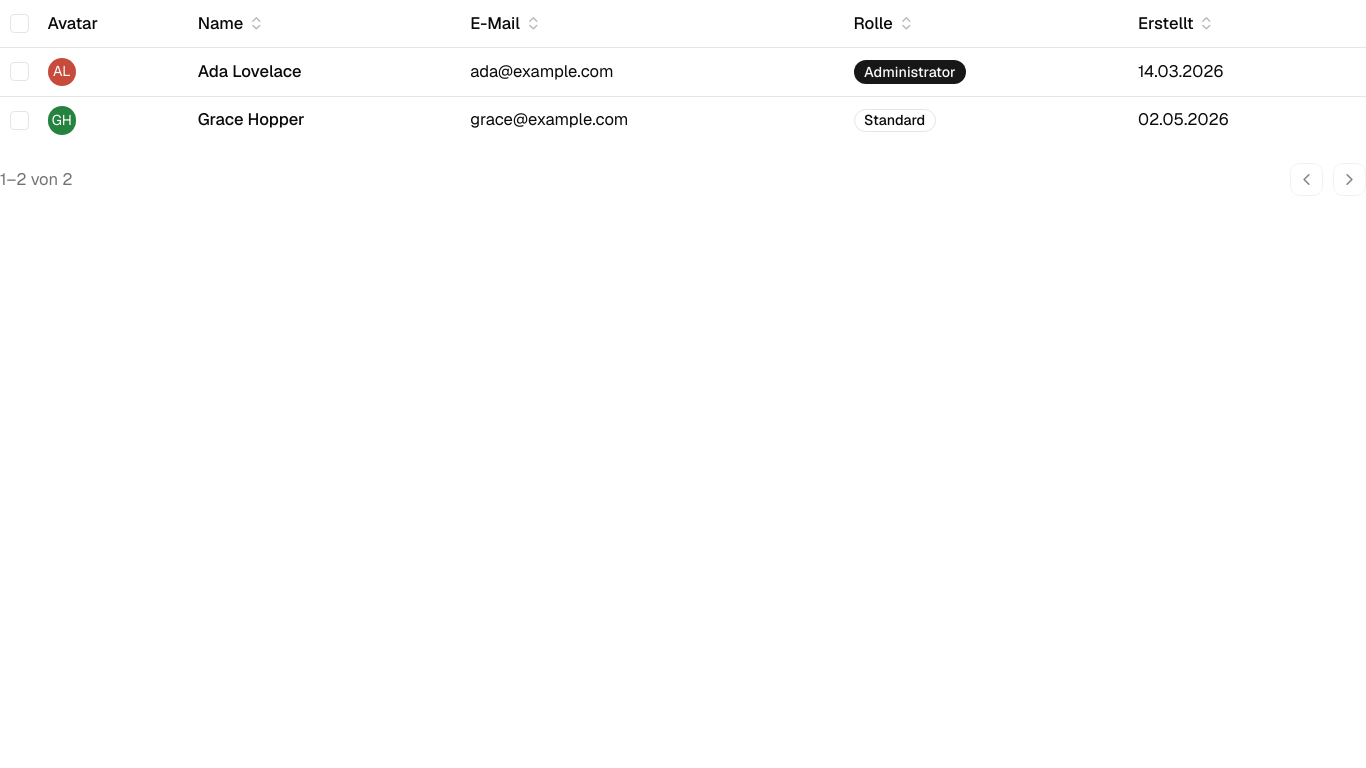
Test: <UsersTable> › declines to invent counts while they are still unknown
The width and height of the screenshot is (1366, 768).
Click the checkbox named "Diese Zeile auswählen" next to "AL".
click(19, 72)  # box [10,62,28,81]
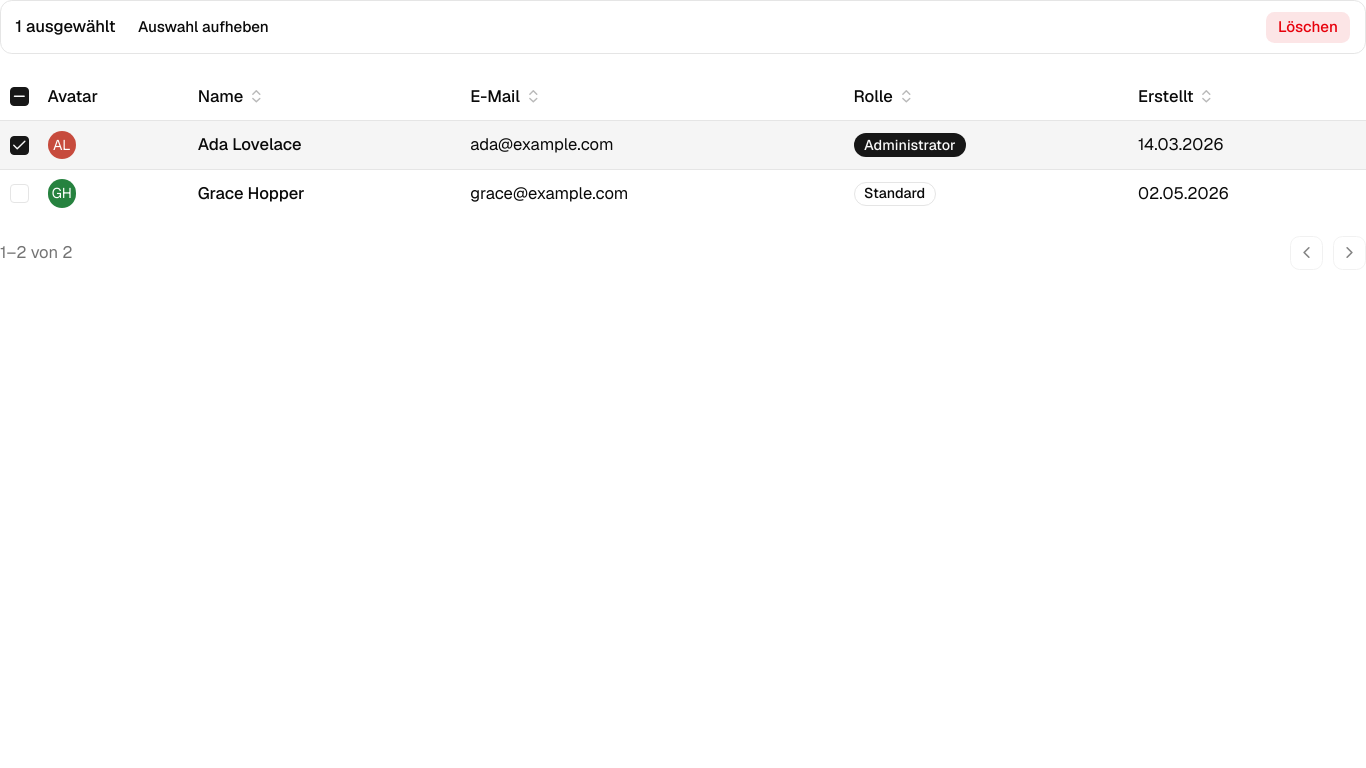
Click the button "Löschen".
click(1308, 27)  # box [1265,10,1351,44]
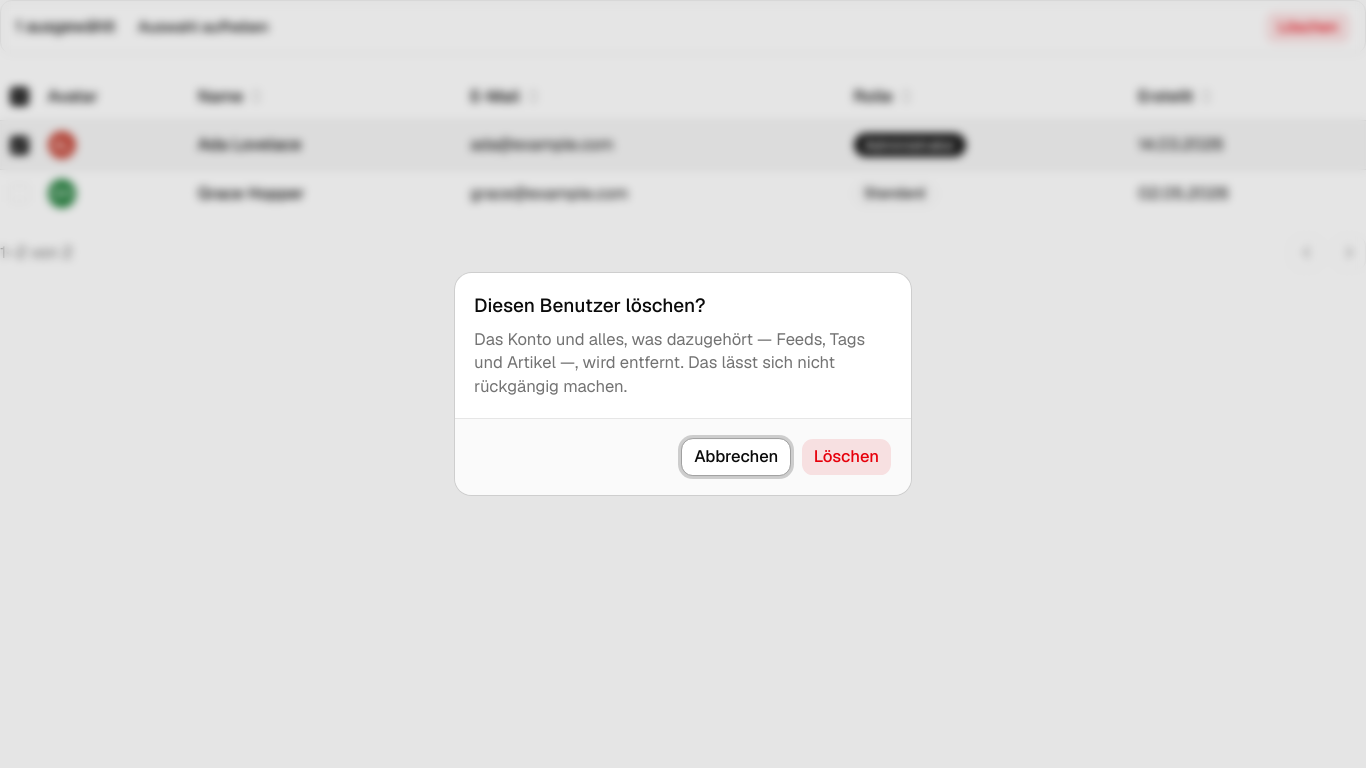
Expected: the text "Feeds, Tags und Artikel" is shown, [474,328,865,397]
